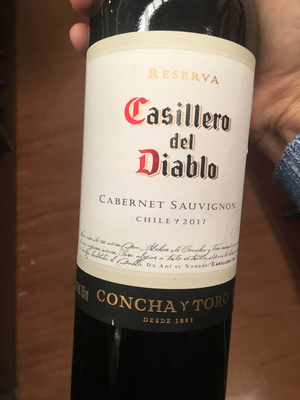casillero del diablo cabernet sauvignon: (76, 5, 263, 393)
